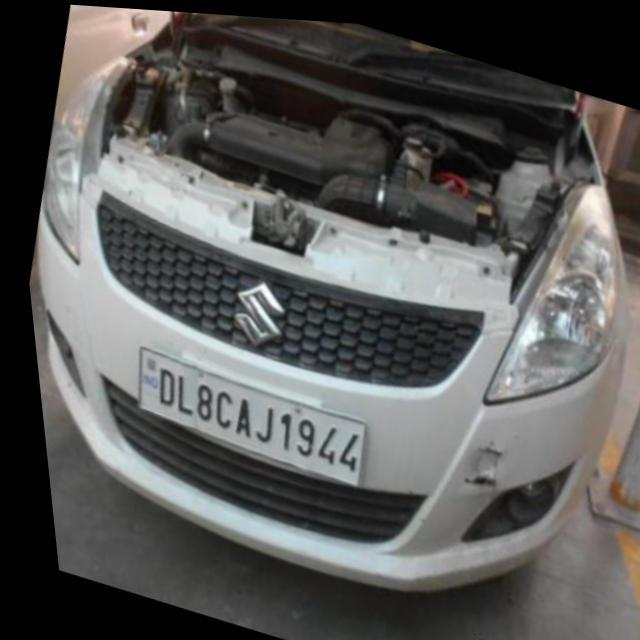crack: (458, 426, 496, 496)
